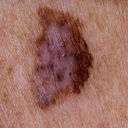Melanoma: (31, 16, 86, 108)
